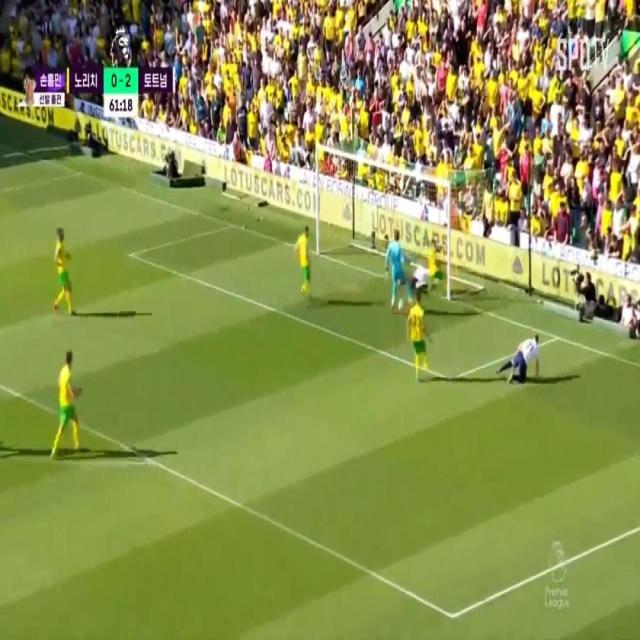ball: (397, 292, 406, 313)
goalkeeper: (382, 226, 407, 327)
player: (55, 347, 75, 449), (502, 333, 541, 372), (56, 223, 69, 317), (411, 292, 426, 372), (298, 223, 314, 294), (408, 255, 434, 294), (424, 238, 445, 282)
